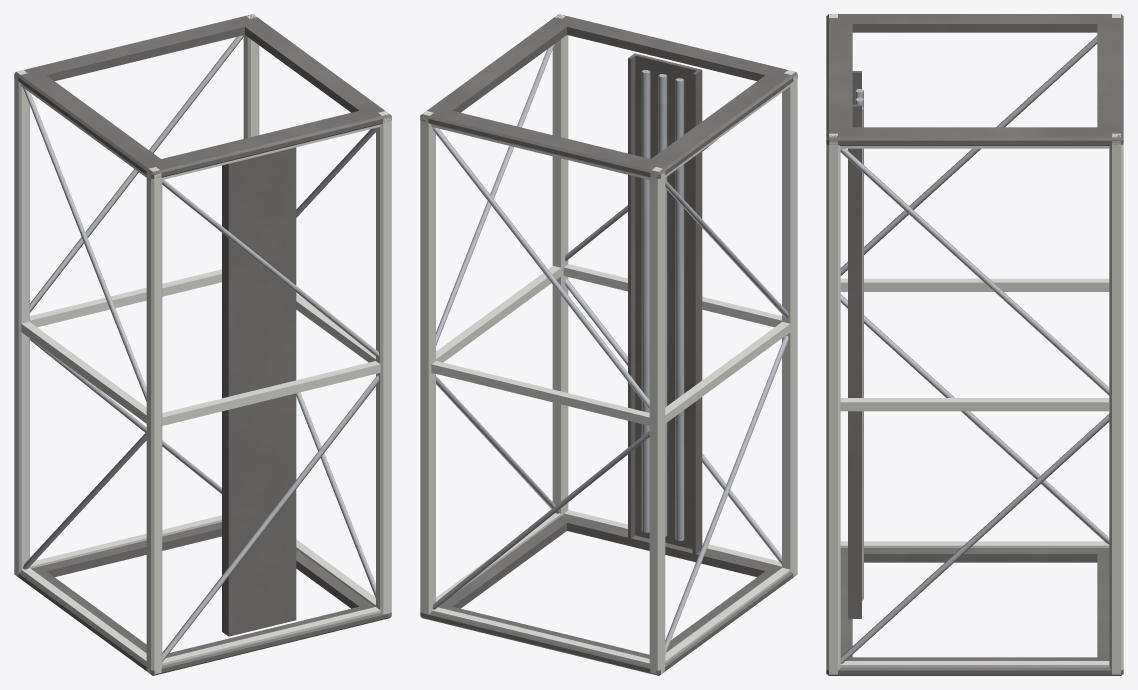
File: ax_station_18_truss_s.glb
3 renders of one model, left to right at view 1: azimuth 30°, elevation 25°; view 2: azimuth 150°, elevation 25°; view 3: azimuth 270°, elevation 25°, orthographic. The views are drawn at different scales.
Visible parts, largest first — view 1: utility_tray, longerons, end_frames, frames, diagonals; view 2: longerons, end_frames, utility_tray, frames, diagonals, tray_lines; view 3: end_frames, longerons, frames, diagonals, utility_tray, tray_lines.
Boxes of the visible parts, bbox=[...] form: utility_tray: bbox=[222, 147, 296, 636]; longerons: bbox=[14, 14, 391, 674]; end_frames: bbox=[14, 14, 391, 675]; frames: bbox=[21, 84, 380, 665]; diagonals: bbox=[23, 35, 379, 661]; longerons: bbox=[420, 14, 797, 674]; end_frames: bbox=[420, 14, 797, 675]; utility_tray: bbox=[628, 53, 702, 554]; frames: bbox=[431, 84, 790, 665]; diagonals: bbox=[432, 44, 788, 653]; tray_lines: bbox=[641, 70, 684, 540]; end_frames: bbox=[826, 14, 1123, 675]; longerons: bbox=[826, 14, 1123, 674]; frames: bbox=[840, 146, 1109, 667]; diagonals: bbox=[840, 36, 1109, 663]; utility_tray: bbox=[848, 71, 861, 618]; tray_lines: bbox=[855, 89, 863, 600].
Bounding box in the file's own units: 1.25 × 2.5 × 1.25.
3 materials, 2 textured.
